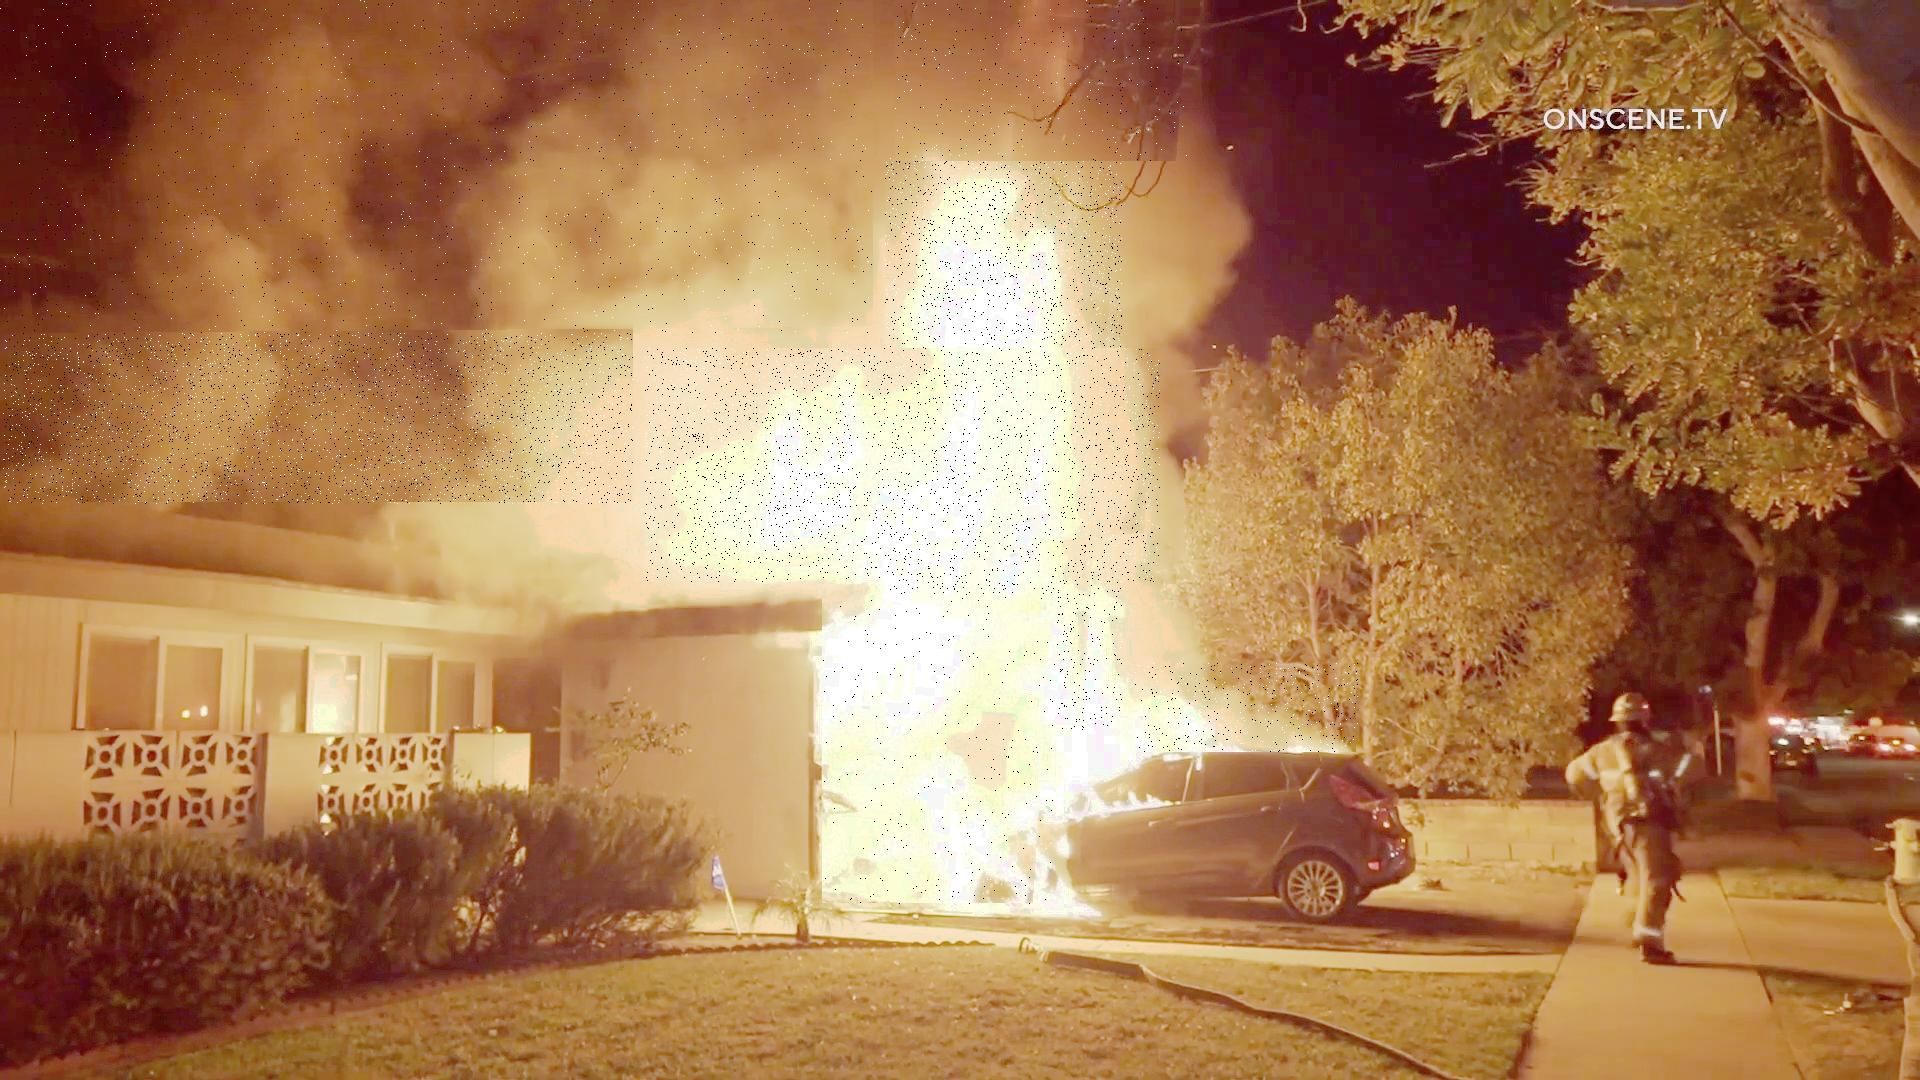fire: (886, 158, 1122, 731), (646, 348, 1160, 583), (823, 596, 1055, 906), (1135, 663, 1358, 752)
smoke: (3, 3, 633, 505), (0, 0, 873, 334), (0, 0, 873, 193), (895, 0, 1188, 161)
